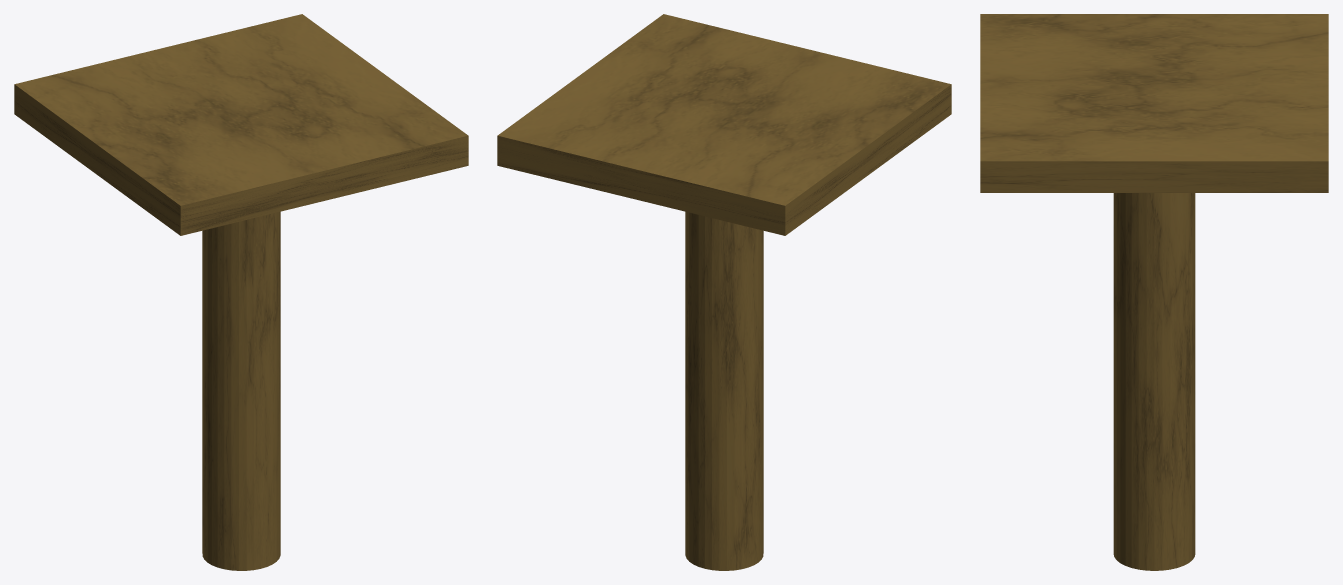
Rendered from tree.gltf.
The picture shows the model from 3 angles, left to right: view 1: azimuth 30°, elevation 25°; view 2: azimuth 150°, elevation 25°; view 3: azimuth 270°, elevation 25°; orthographic projection. The views are drawn at different scales.
Parts seen in each view (by area): view 1: Cube, Cylinder; view 2: Cube, Cylinder; view 3: Cube, Cylinder.
Part boxes in pixels (left/top/right/bottom): Cube: left=14, top=14, right=468, bottom=235; Cylinder: left=202, top=211, right=280, bottom=570; Cube: left=497, top=14, right=951, bottom=235; Cylinder: left=685, top=211, right=763, bottom=570; Cube: left=980, top=14, right=1328, bottom=192; Cylinder: left=1113, top=193, right=1195, bottom=570.
Bounding box in the file's own units: 3.4 × 5.02 × 3.4.
1 material, 1 textured.
